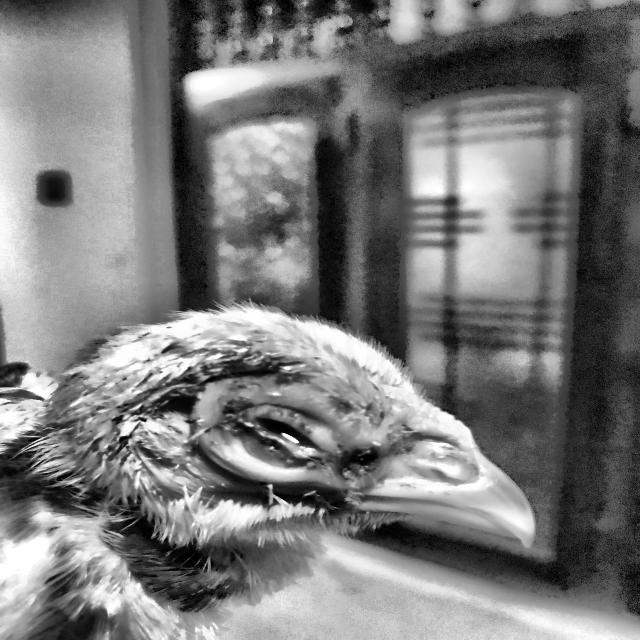Coryza: (106, 314, 572, 561)
